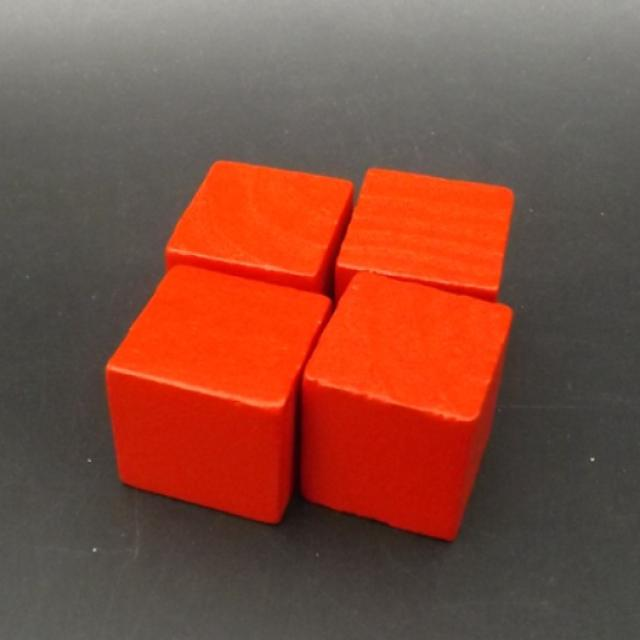red cube: (105, 263, 338, 522), (301, 268, 515, 544), (167, 158, 356, 296), (333, 166, 515, 306)
